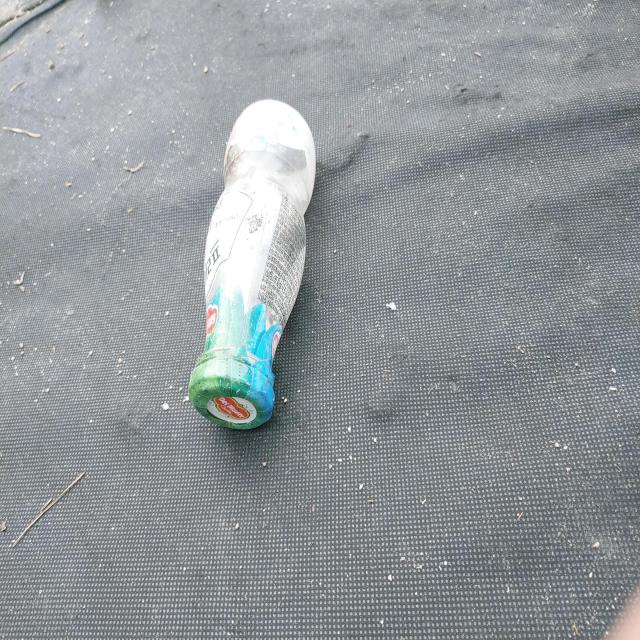glass: (189, 100, 315, 430)
